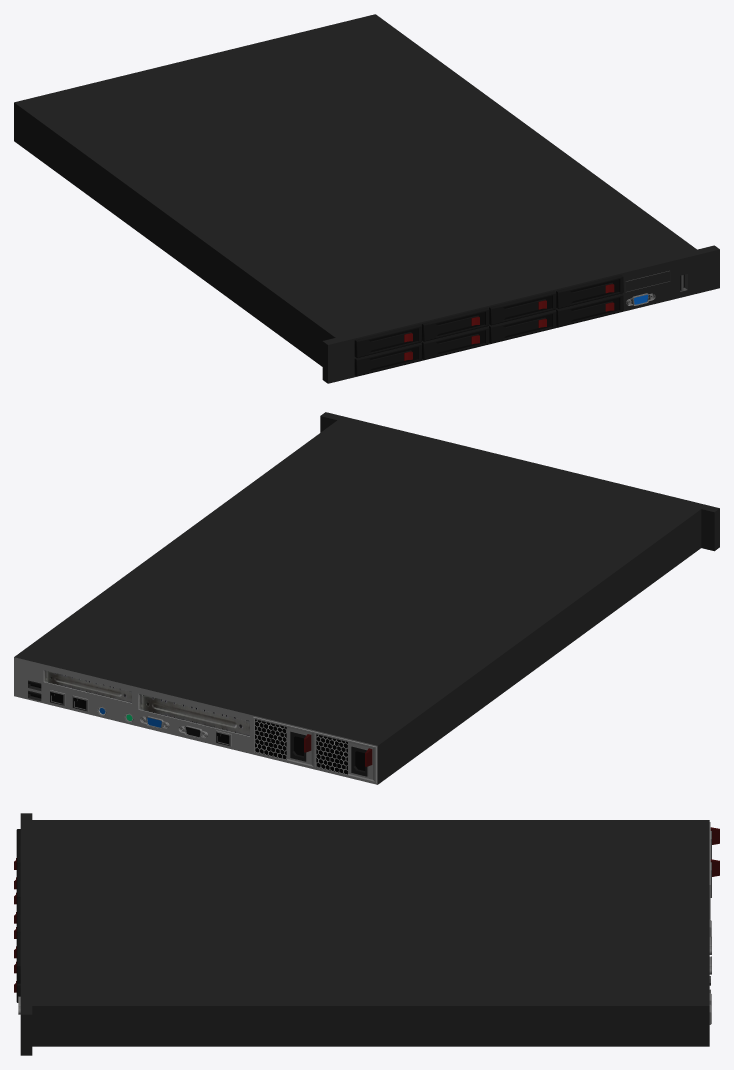
3 renders of one model, top to bottom at view 1: azimuth 30°, elevation 25°; view 2: azimuth 150°, elevation 25°; view 3: azimuth 270°, elevation 25°, orthographic. The views are drawn at different scales.
Visible parts, largest first — view 1: HPE_DL360_G6; view 2: HPE_DL360_G6; view 3: HPE_DL360_G6.
Part boxes in pixels (x1,y1,x2,y2): HPE_DL360_G6: (14, 14, 719, 383); HPE_DL360_G6: (14, 412, 719, 784); HPE_DL360_G6: (14, 813, 719, 1055).
Size of the model in its own units: 471 by 44.5 by 697.
19 materials, 2 textured.
